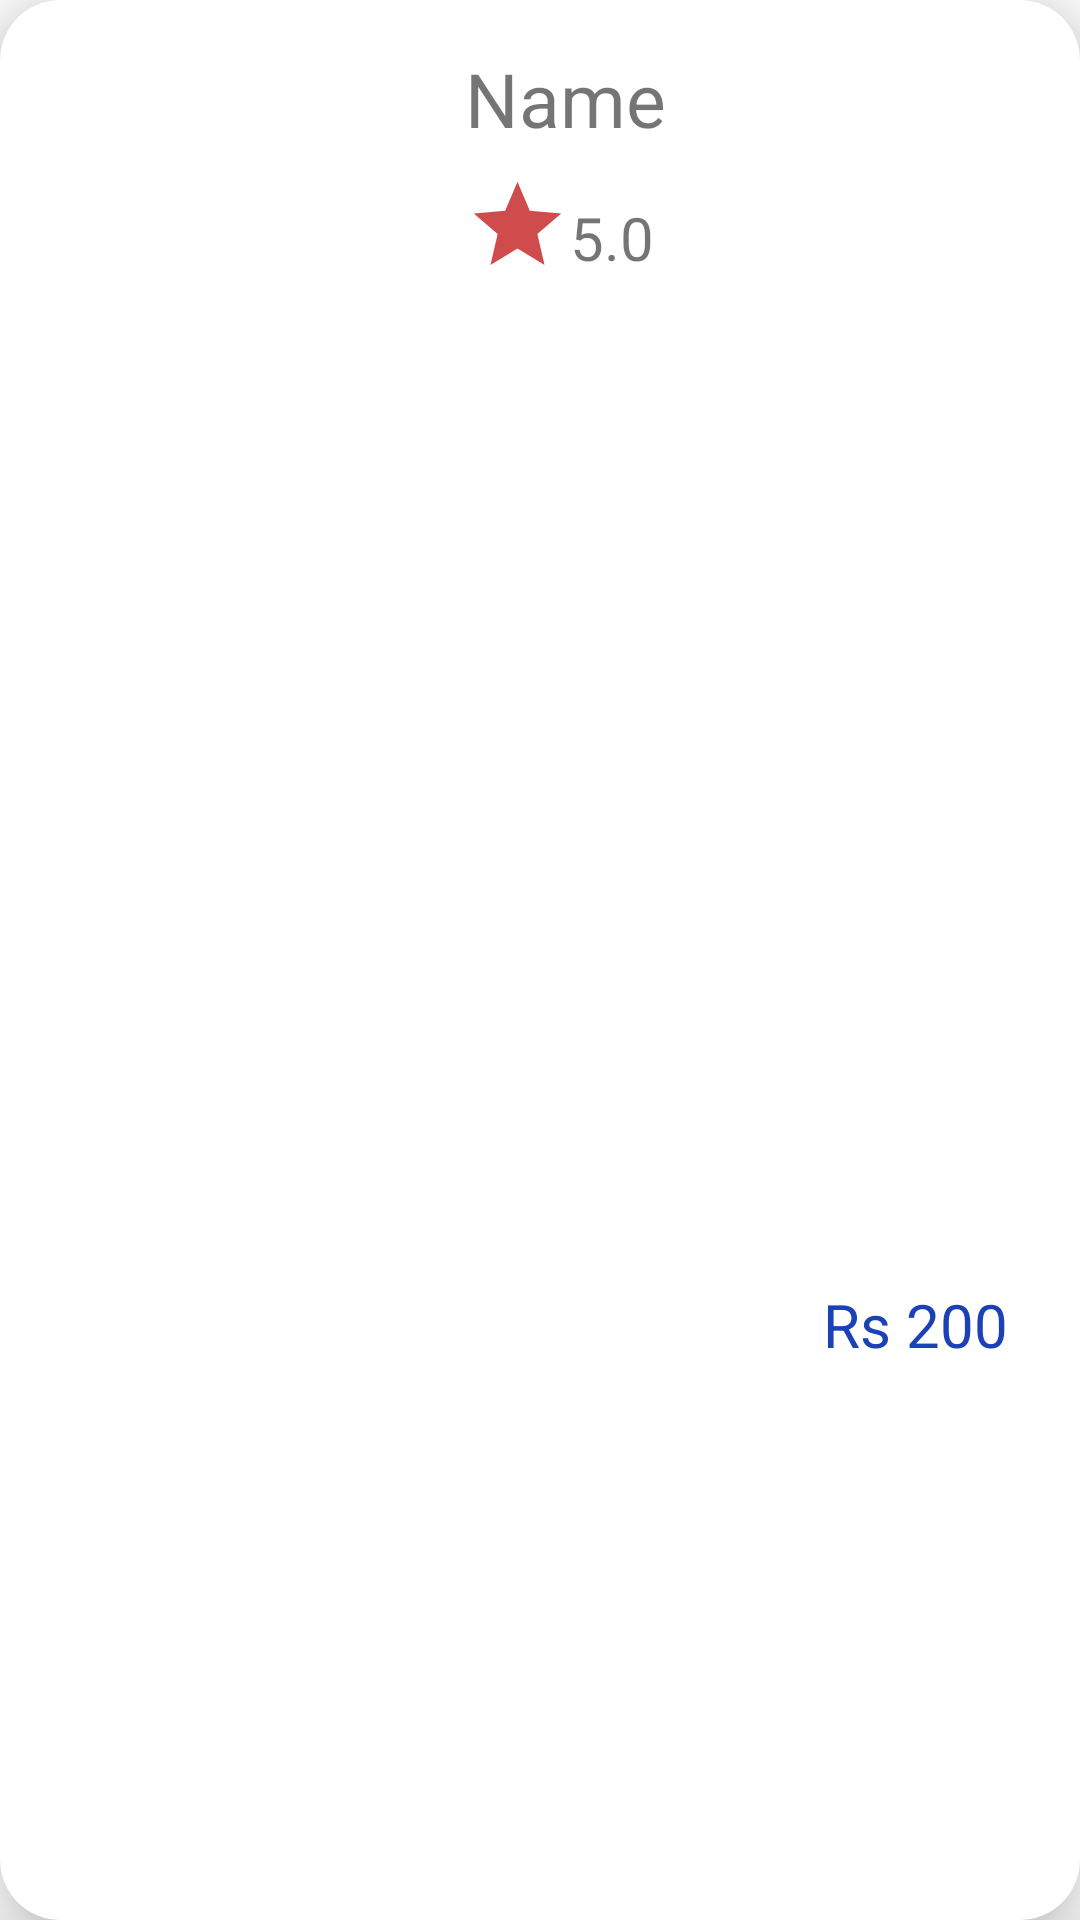

Icons on this 1080 x 1920 Android screen, each with its box as [x1,y1,x2,y2]:
star: [474,182,561,265]
